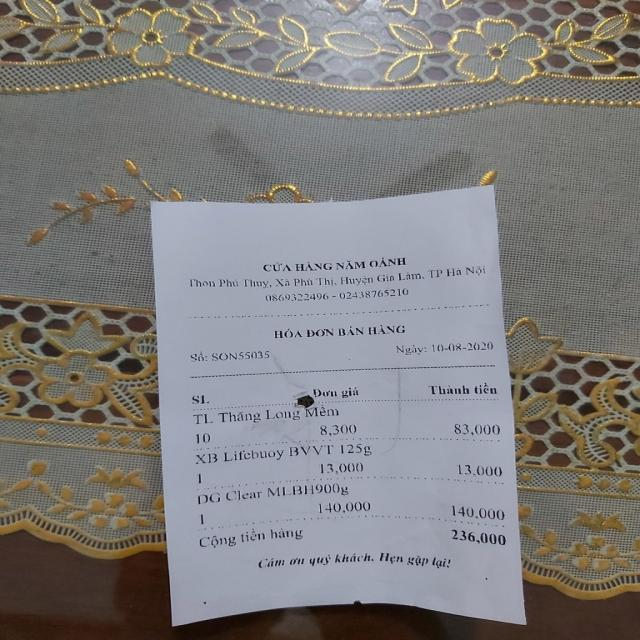Date: (428, 339, 497, 352)
Store_Name: (258, 254, 410, 272)
amount_number: (449, 527, 508, 547)
label_total: (194, 524, 304, 549)
